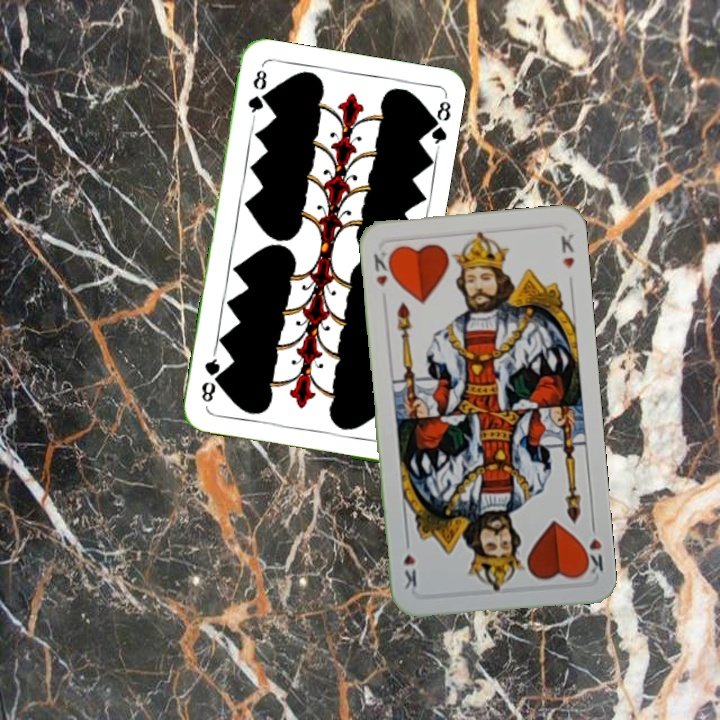G8: (244, 66, 270, 122)
HK: (578, 518, 606, 577), (370, 246, 396, 289)
